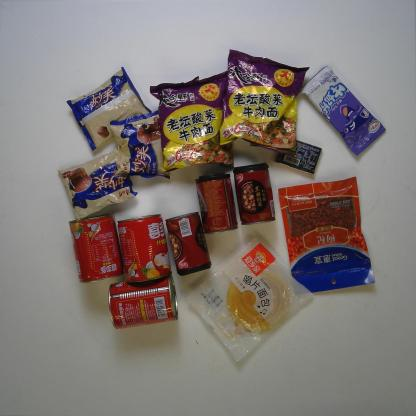Candy: (298, 64, 388, 158)
Canned Food: (107, 275, 180, 334), (66, 214, 124, 284), (118, 214, 173, 284), (164, 210, 212, 276), (195, 172, 240, 232), (234, 162, 276, 226)
Dessert: (185, 235, 314, 362), (65, 67, 154, 152), (57, 141, 138, 221), (108, 110, 172, 181)
Dried Fruit: (277, 174, 376, 297)
Gum: (275, 138, 323, 176)
Instant Noodles: (218, 48, 312, 156), (147, 68, 237, 173)
